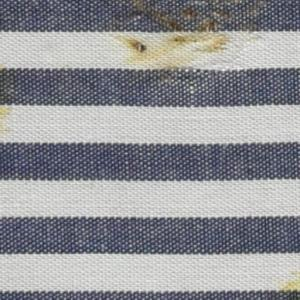Oil Stain: (106, 1, 274, 93)
Stain: (1, 60, 18, 132), (273, 259, 300, 300)
